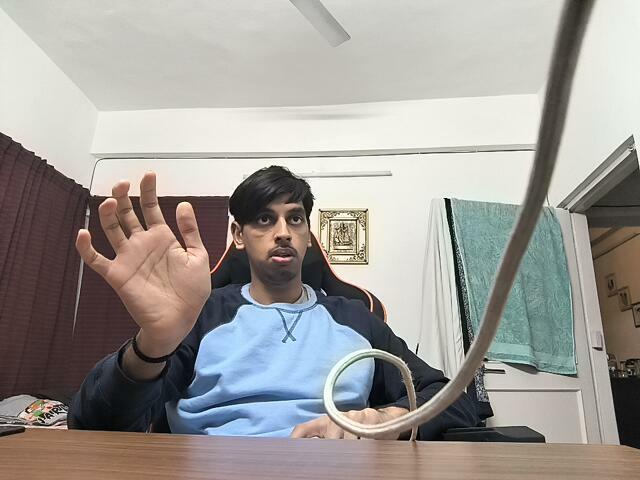STOP: (75, 151, 227, 358)
